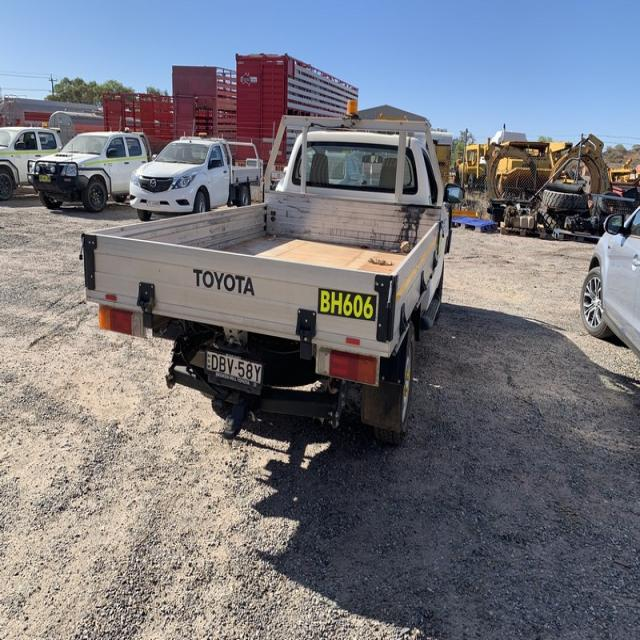light_vehicle: (81, 117, 464, 461)
